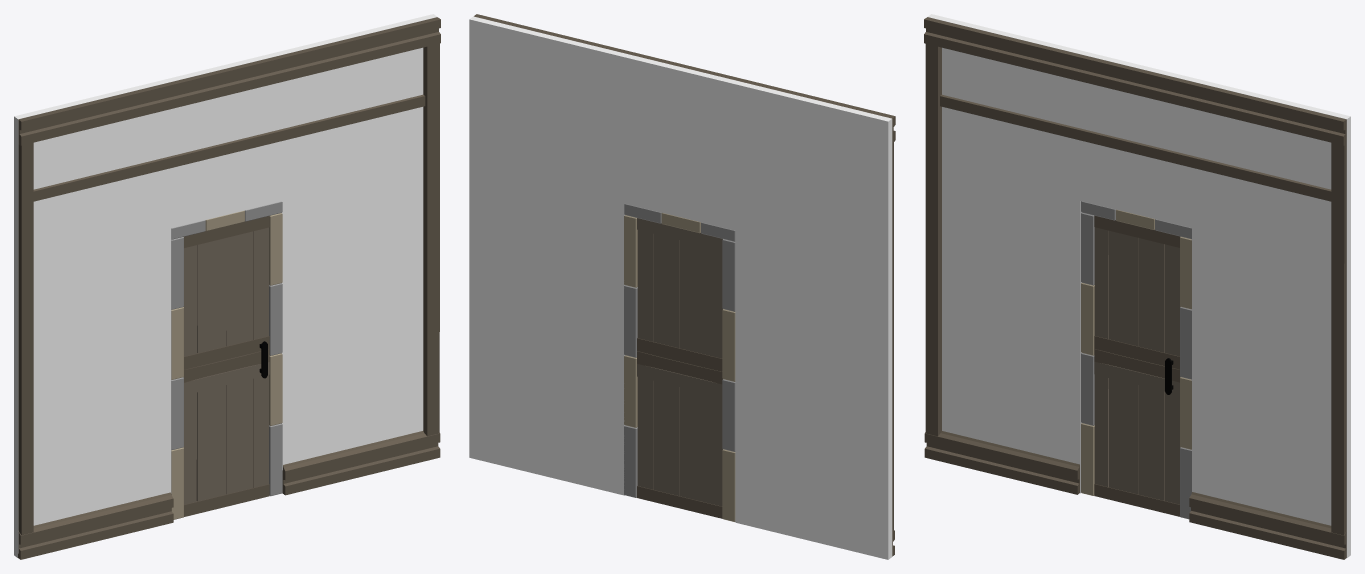
Rendered from DOOR_04_1.fbx.
3 views of the same model, side by side, from view 1: azimuth 30°, elevation 25°; view 2: azimuth 150°, elevation 25°; view 3: azimuth 330°, elevation 25° (orthographic).
Parts seen in each view (by area): view 1: DOOR_04_1; view 2: DOOR_04_1; view 3: DOOR_04_1.
Boxes of the visible parts, x1,y1,x2,y2 form: DOOR_04_1: (14,14,440,559); DOOR_04_1: (469,14,895,559); DOOR_04_1: (924,14,1350,559).
Bounding box in the file's own units: 300 × 300 × 9.14.
